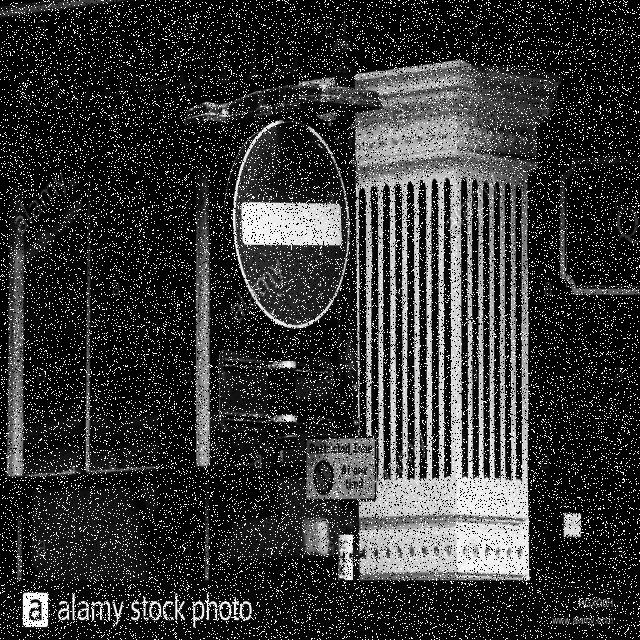no entry: (232, 118, 348, 326)
